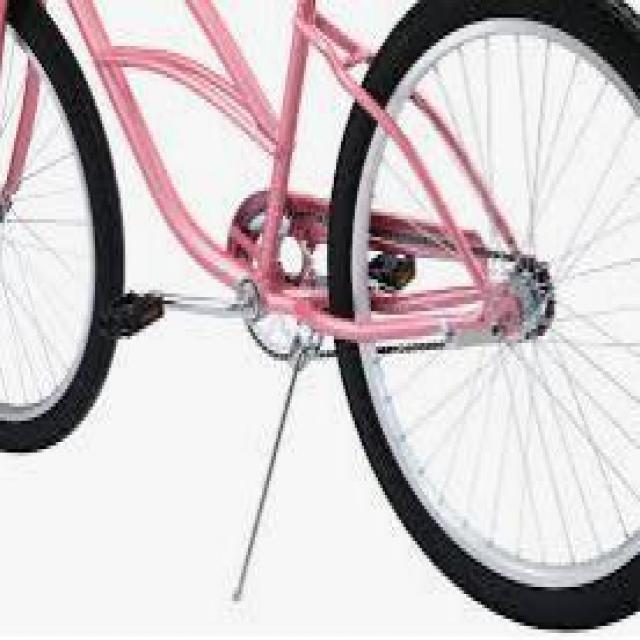bicycle: (5, 4, 640, 633)
